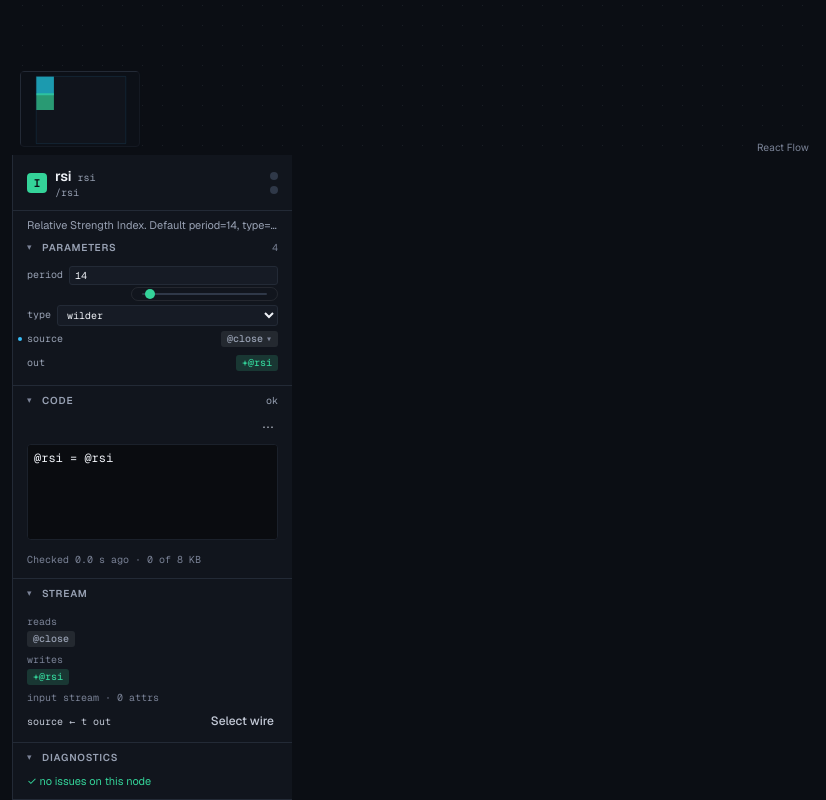
S45 code drawer › typing in the Inspector parses once after 400 ms, and the answer’s writes become a node chip
(page scrolled)
Replace the text in the text box with test id "nb-code-editor-rsi-plain" with "@rsi_smooth = sl.ema(@rsi, chi(\"smooth\", default=3))" at (152, 492), box left=28, top=445, right=277, bottom=539
Wait 800 ms
(page scrolled)
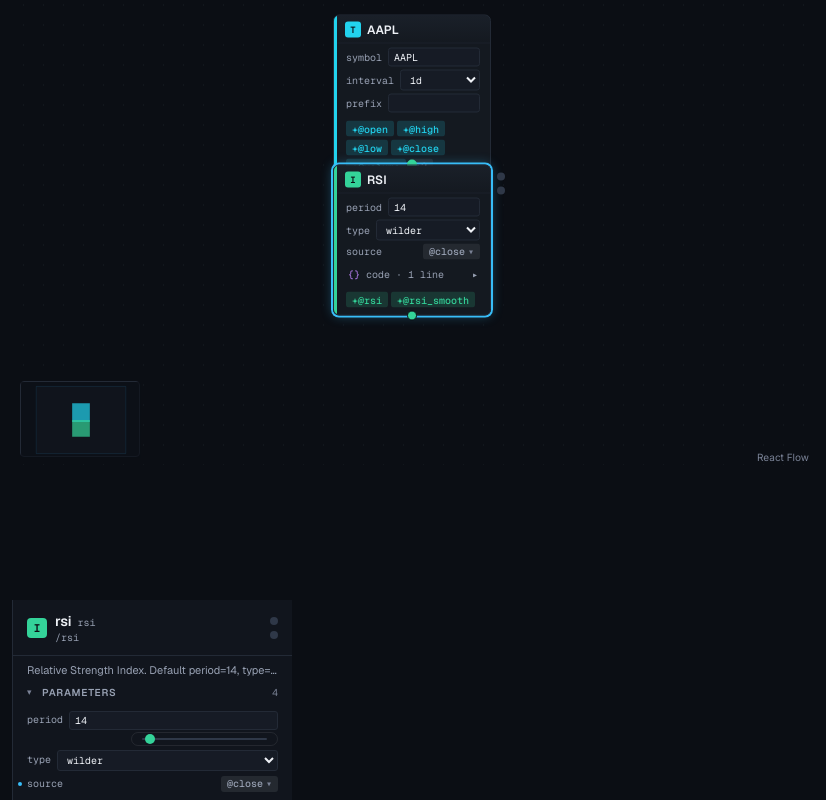
Check: the text "+@rsi_smooth" is shown, box left=391, top=292, right=475, bottom=308
